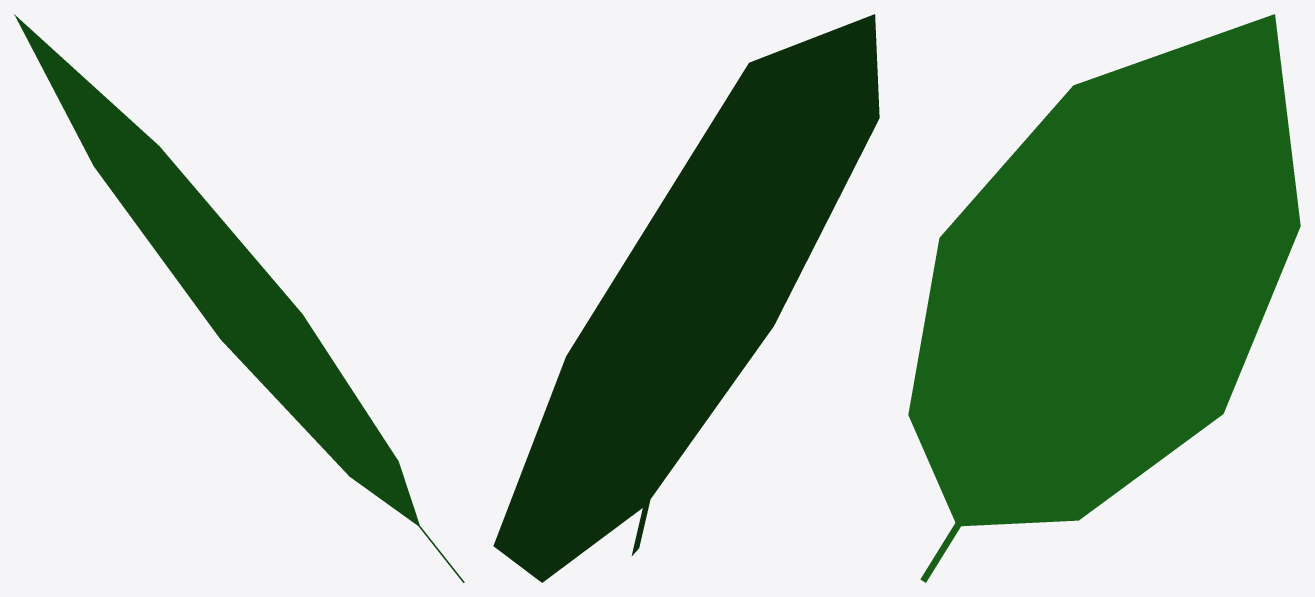
File: Leaves.168.obj
The picture shows the model from 3 angles, left to right: view 1: azimuth 30°, elevation 25°; view 2: azimuth 150°, elevation 25°; view 3: azimuth 270°, elevation 25°; orthographic projection. The views are drawn at different scales.
Parts seen in each view (by area): view 1: Leaves.168_leaves.168; view 2: Leaves.168_leaves.168; view 3: Leaves.168_leaves.168.
Boxes of the visible parts, x1,y1,x2,y2 form: Leaves.168_leaves.168: [14, 14, 464, 582]; Leaves.168_leaves.168: [493, 14, 879, 582]; Leaves.168_leaves.168: [908, 14, 1300, 582].
Size of the model in its own units: 0.0617 by 0.1121 by 0.088.
